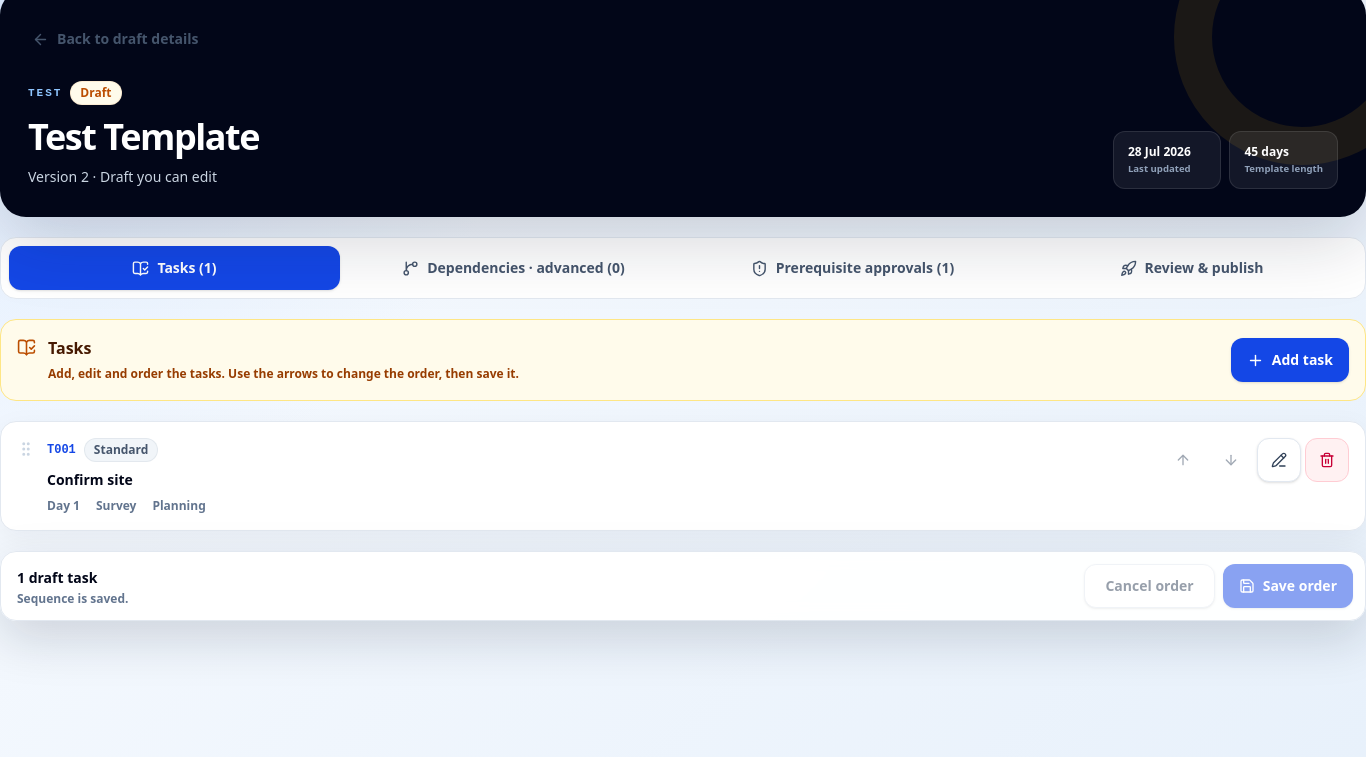
Test case: review and publish › Fix opens the task or approval the problem is about
Expected: the element with test id "draft-task-T001" is shown, [0,421,1365,531]
Step 1. Click the button "Review & publish" → (1192,268), box [1026,246,1357,290]
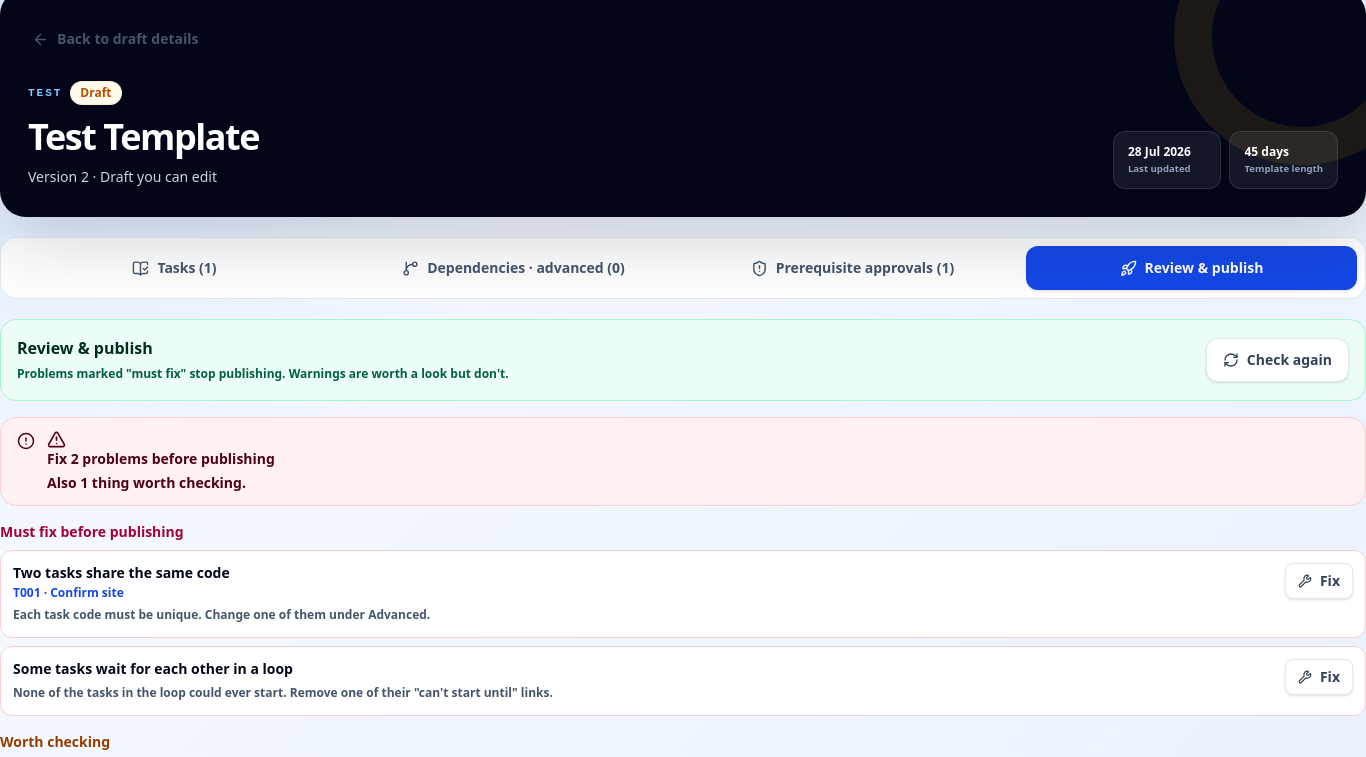
Step 2. Click the button with aria-label "Fix: Two tasks share the same code" → (1319,581), box [1285,563,1353,599]
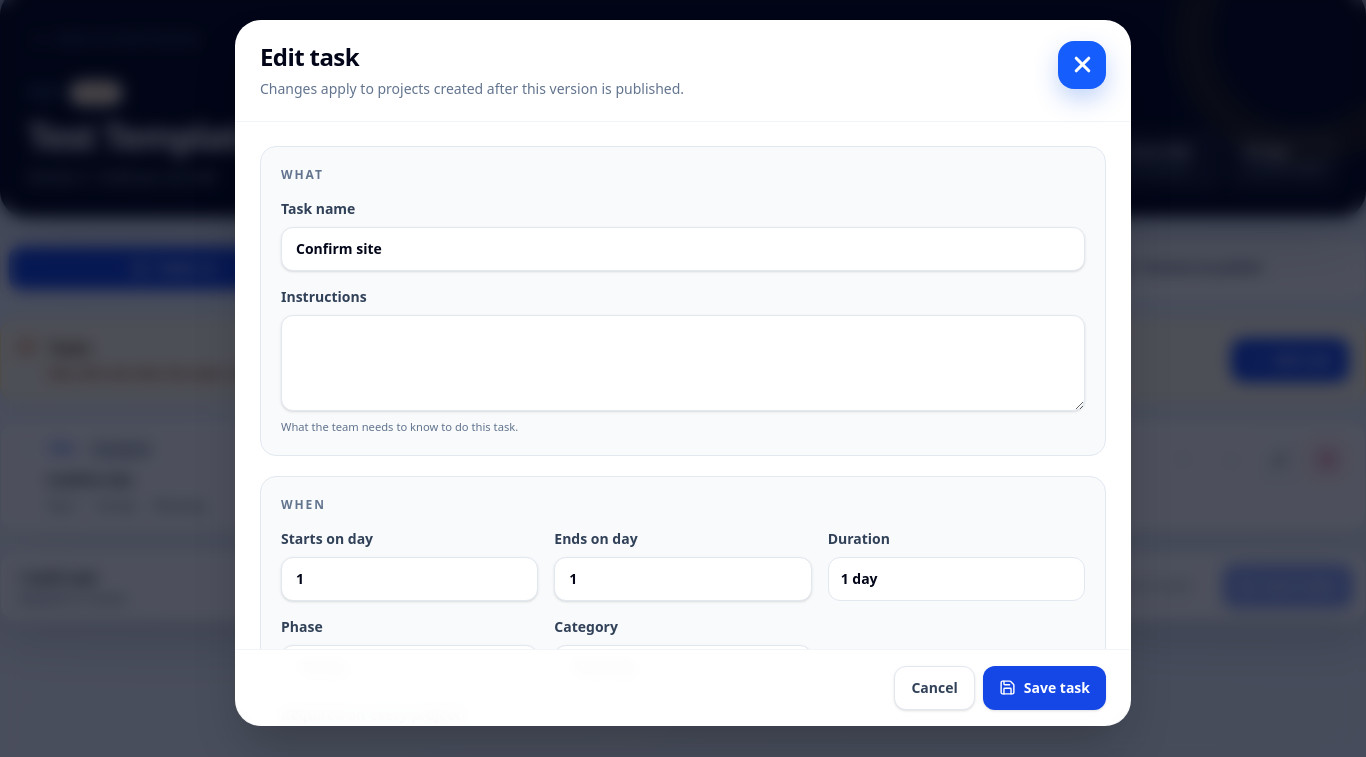
Expected: the dialog "Edit task" is shown
Step 3. Click the button "Cancel" → (935,687), box [894,665,975,709]
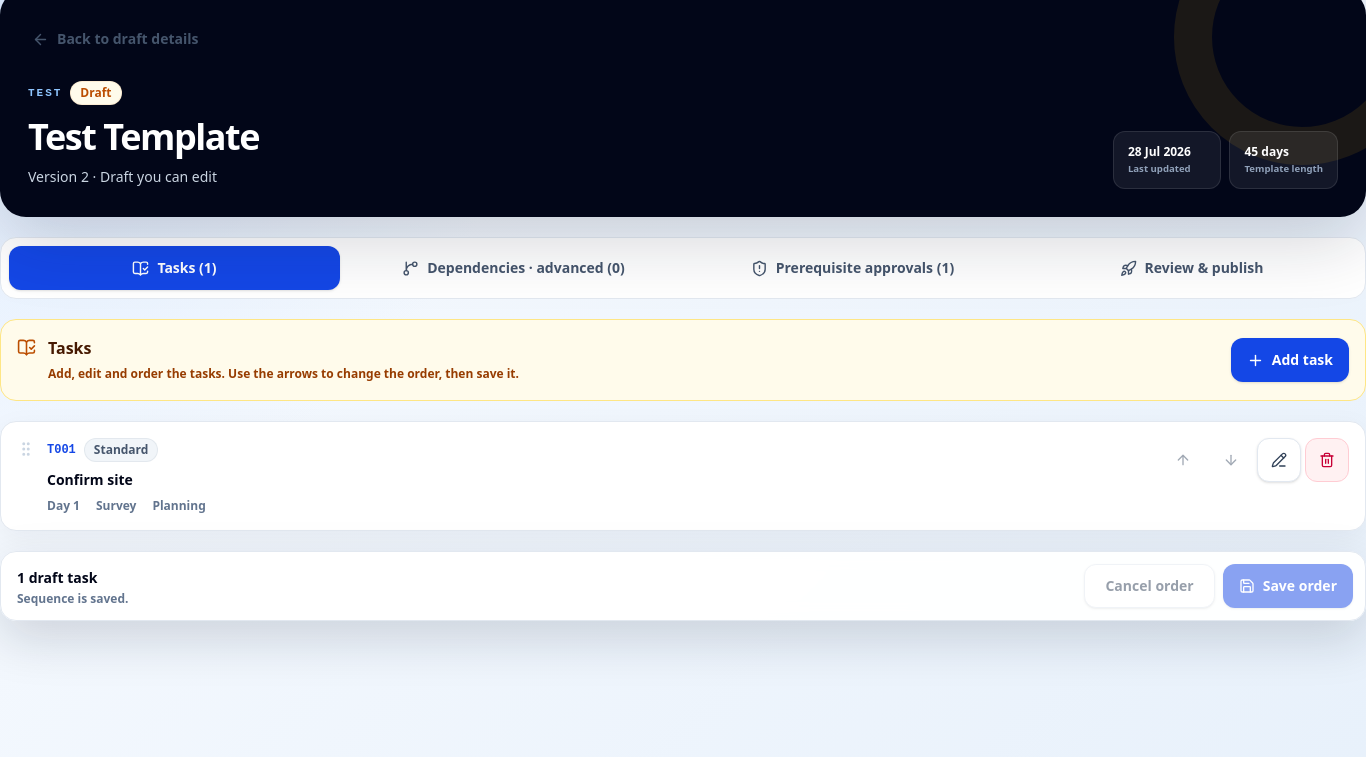
Step 4. Click the button "Review & publish" → (1192,268), box [1026,246,1357,290]
(page scrolled)
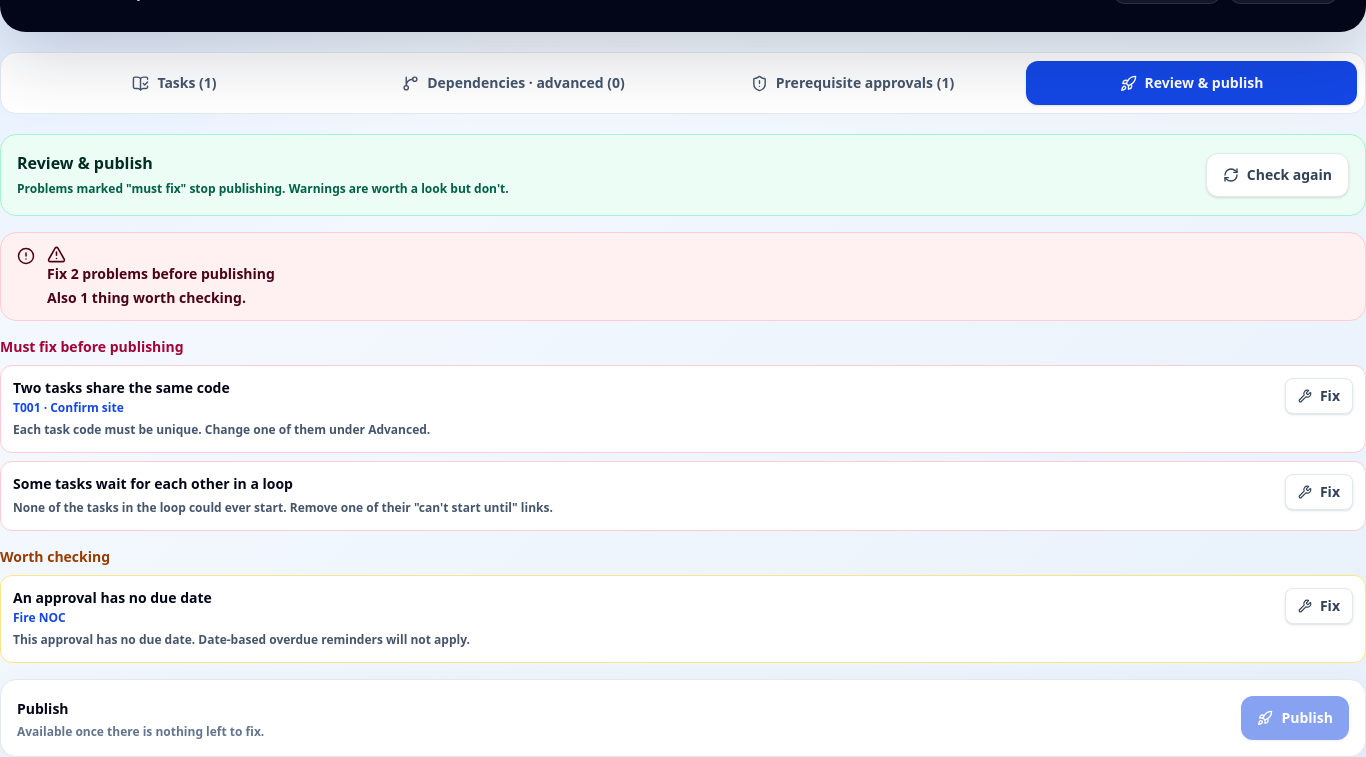
Step 5. Click the button with aria-label "Fix: An approval has no due date" → (1319,606), box [1285,588,1353,624]
(page scrolled)
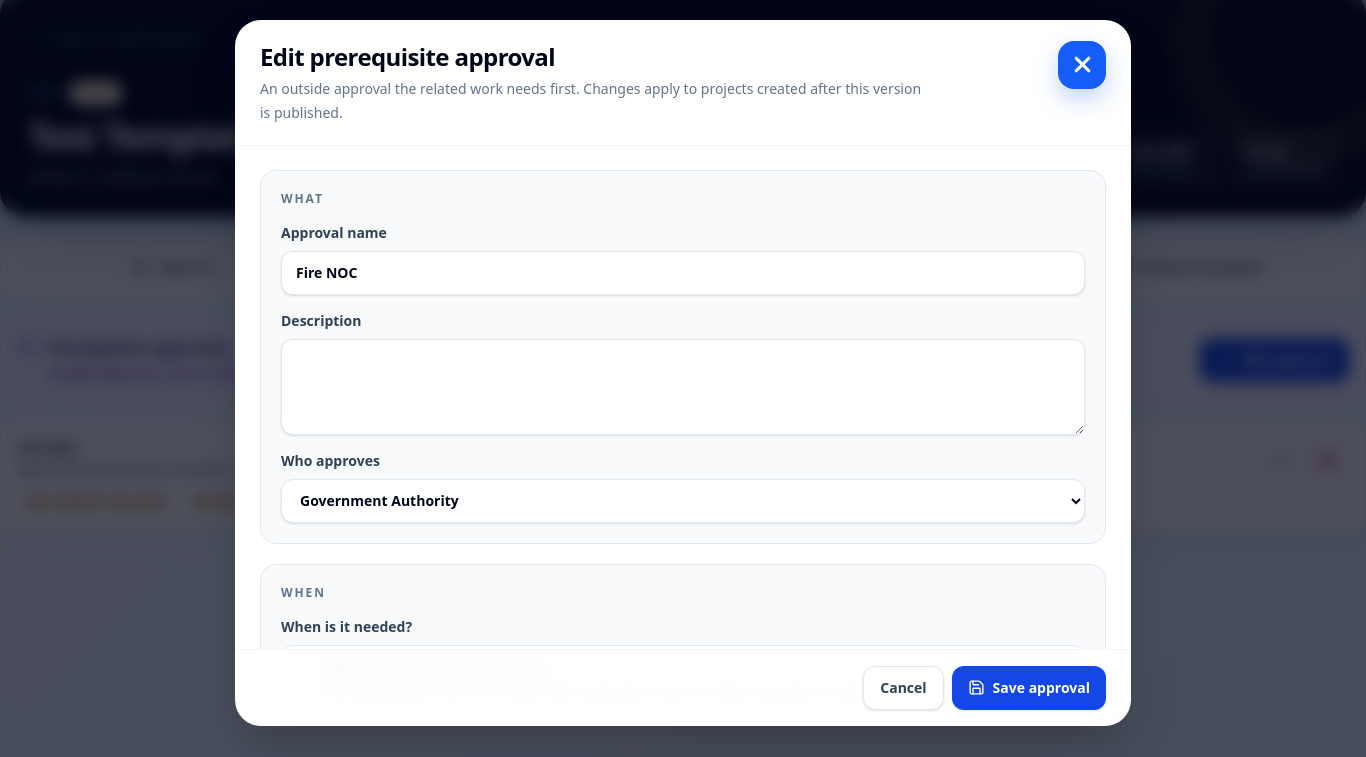
Expected: the dialog "Edit prerequisite approval" is shown
